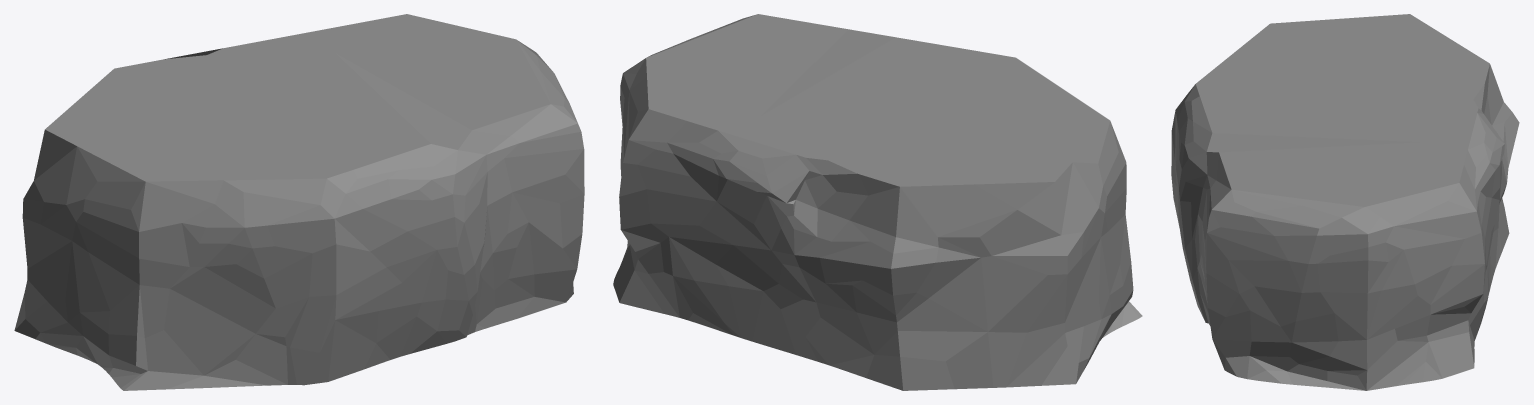
Rendered from SM_Cliff1_LOD0.fbx.
3 renders of one model, left to right at view 1: azimuth 30°, elevation 25°; view 2: azimuth 150°, elevation 25°; view 3: azimuth 270°, elevation 25°, orthographic. The views are drawn at different scales.
Visible parts, largest first — view 1: SM_Cliff1_LOD0; view 2: SM_Cliff1_LOD0; view 3: SM_Cliff1_LOD0.
Part boxes in pixels (x1,y1,x2,y2): SM_Cliff1_LOD0: (14, 14, 584, 390); SM_Cliff1_LOD0: (613, 14, 1142, 390); SM_Cliff1_LOD0: (1171, 14, 1519, 390).
Bounding box in the file's own units: 16.91 × 6.45 × 11.57.
